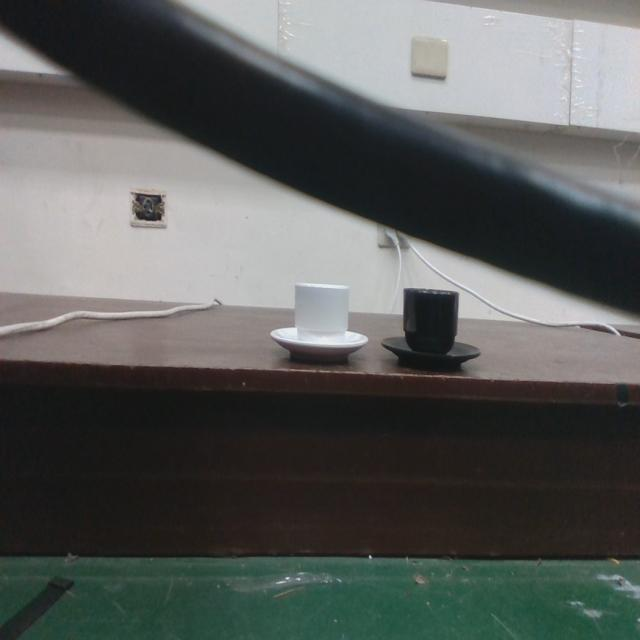black: (379, 284, 482, 372)
white: (268, 276, 371, 364)
